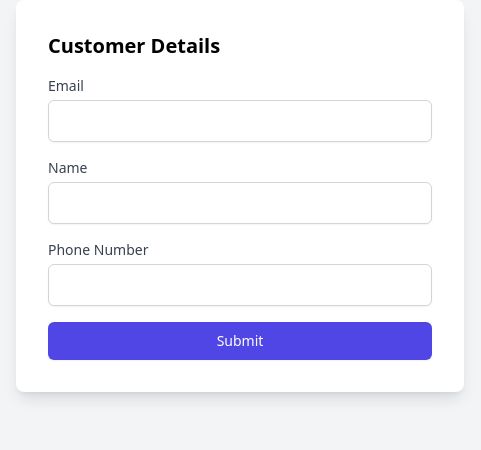
CustomerForm Component › handles API errors
Step 1. Type "test@example.com" into the field labelled "Email" → (240, 121), box [48, 100, 432, 142]
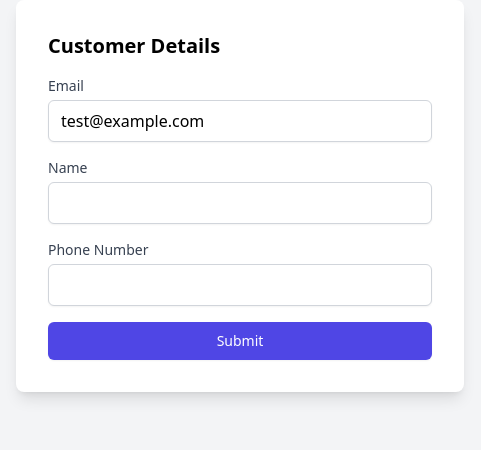
Step 2. Type "John Doe" into the field labelled "Name" → (240, 203), box [48, 182, 432, 224]
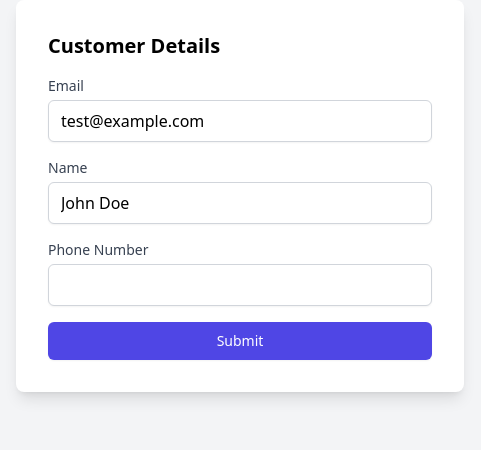
Step 3. Type "1234567890" into the field labelled "Phone Number" → (240, 285), box [48, 264, 432, 306]
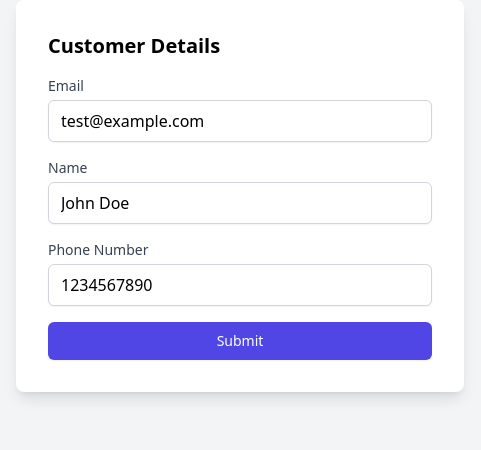
Step 4. Click the button "Submit" → (240, 341), box [48, 322, 432, 360]
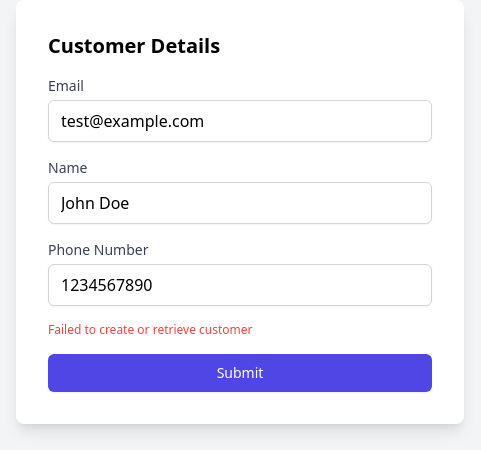
Now the text "Failed to create or retrieve customer" is shown, box [48, 321, 252, 338]
